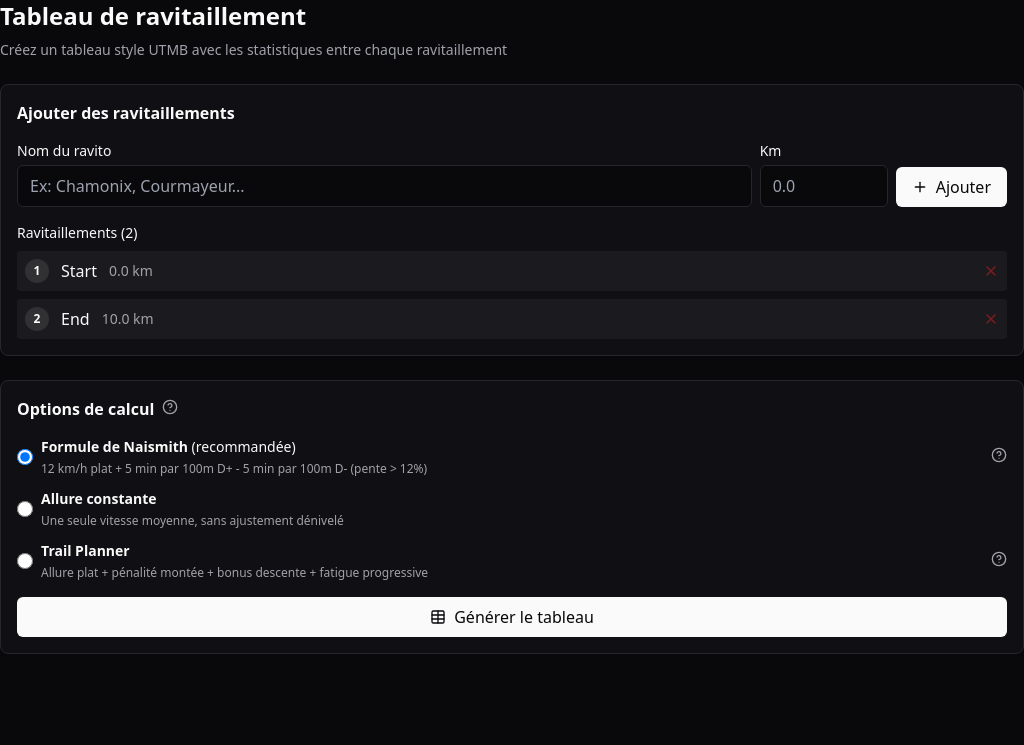
Test: AidStationTable — calc modes › flags flat_pace=0 as invalid in the Trail Planner form
Click the radio button labelled "Trail Planner" at (25, 561), box [17,553,33,569]
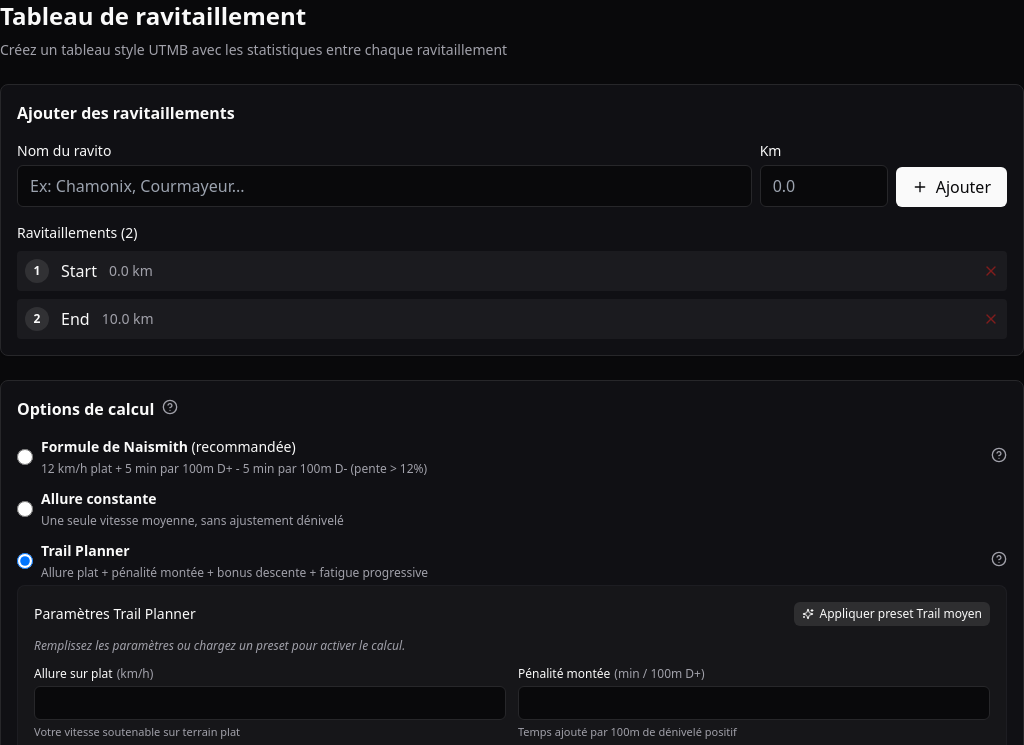
Click the button "Appliquer preset Trail moyen" at (892, 614), box [794,602,990,626]
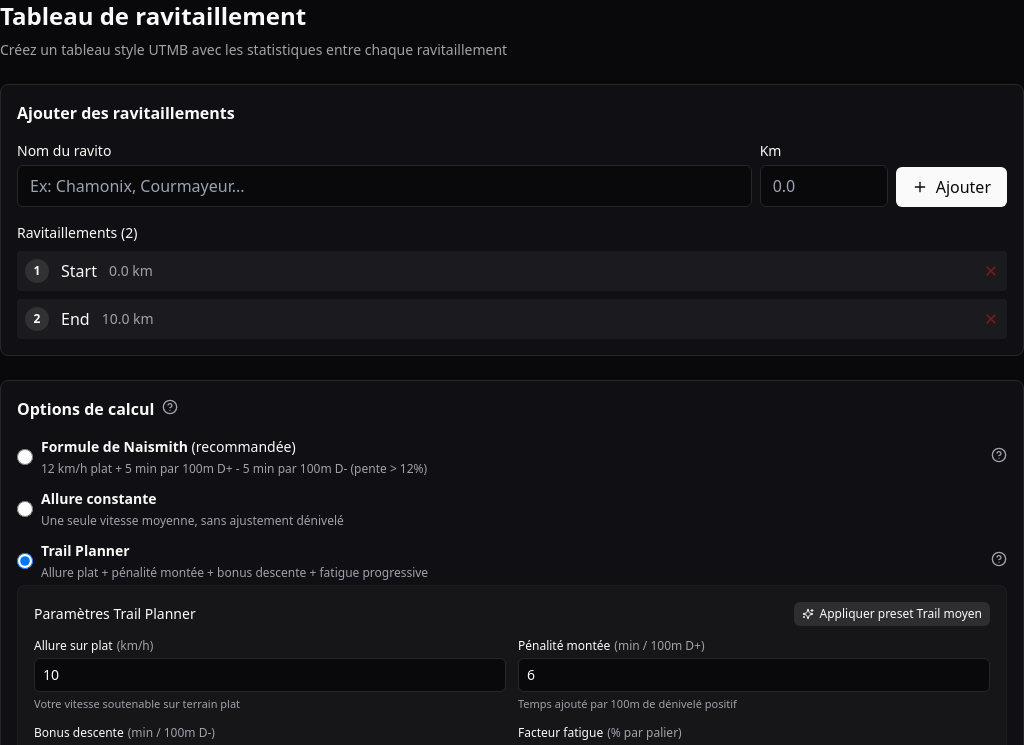
Replace the text in the number field labelled "Allure sur plat(km/h)" with "0" at (270, 675), box [34,658,506,692]
(page scrolled)
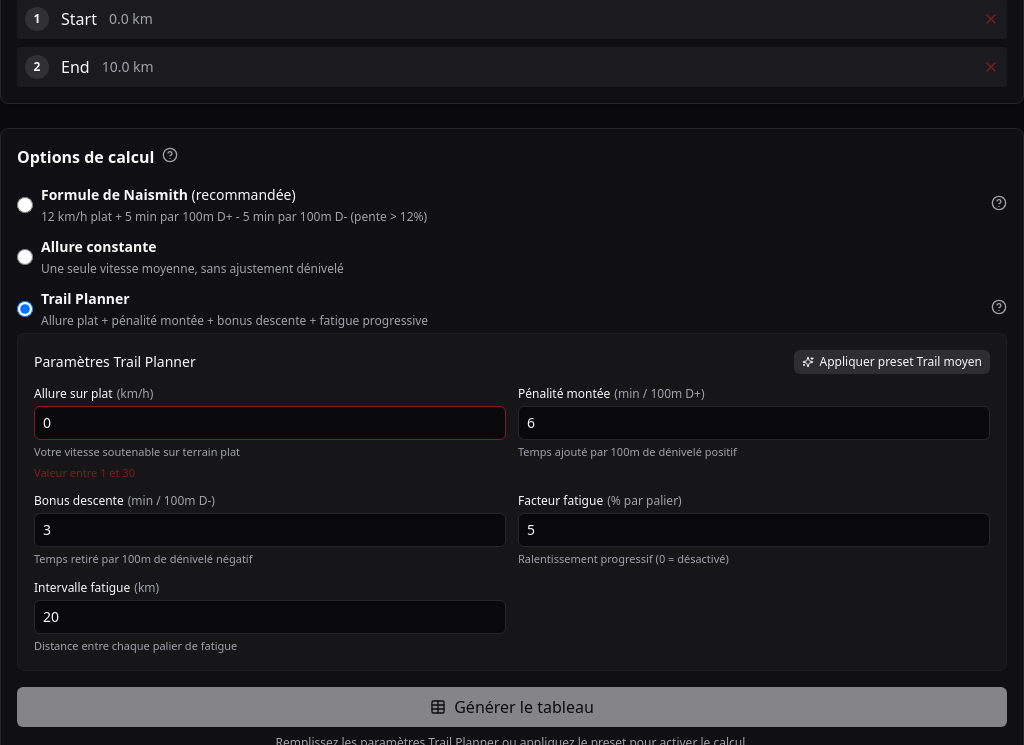
Expected: the button "Générer le tableau" is disabled, [17,687,1007,727]
